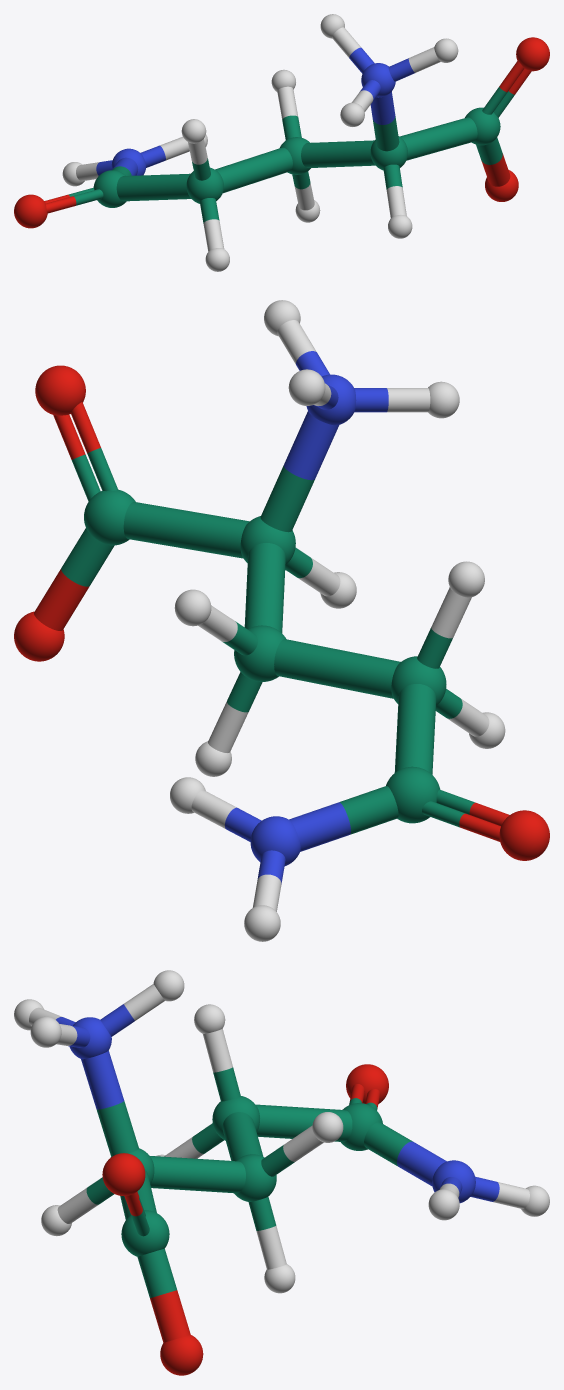
File: GLN.PDB.glb
3 views of the same model, one above another, from view 1: azimuth 30°, elevation 25°; view 2: azimuth 150°, elevation 25°; view 3: azimuth 270°, elevation 25° (orthographic). The views are drawn at different scales.
Size of the model in its own units: 6.77 by 3.67 by 5.68.
